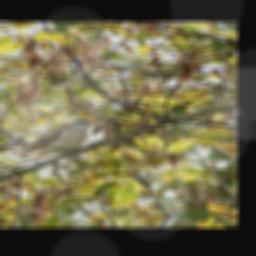Cuckoo: (11, 115, 108, 158)
